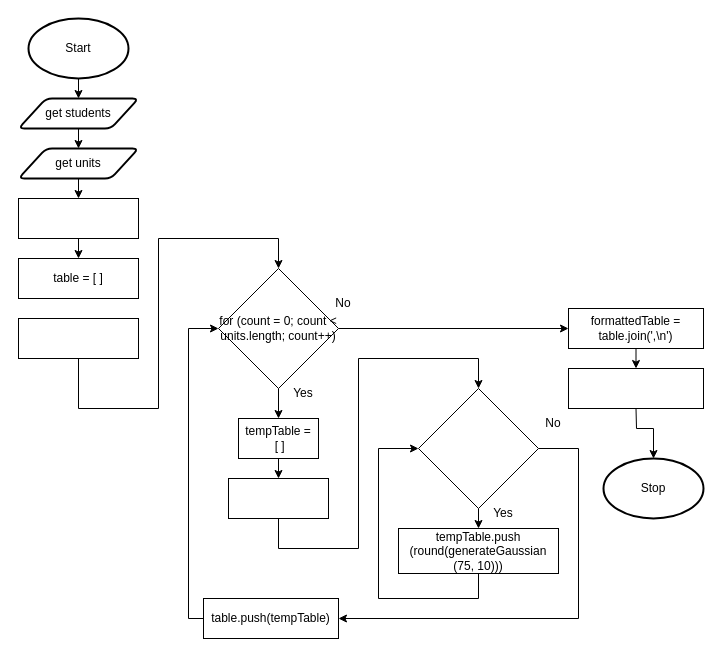
This 721x656 diagram has some shape labels left out. Here are the shapes that lost their labels. From the top down, the centre of each, then its label:
At [78,218]: "unitLength = units.length - 1".
At [78,338]: "table.push(units)".
At [636,388]: "writeFileSync('marks.csv', fomattedTable)".
At [478,448]: "for (count2 = 0; count2 < unitLength; count2++)".
At [278,498]: "tempTable.push (students[count])".
